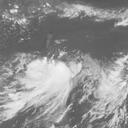cyclone: (27, 57, 113, 111)
